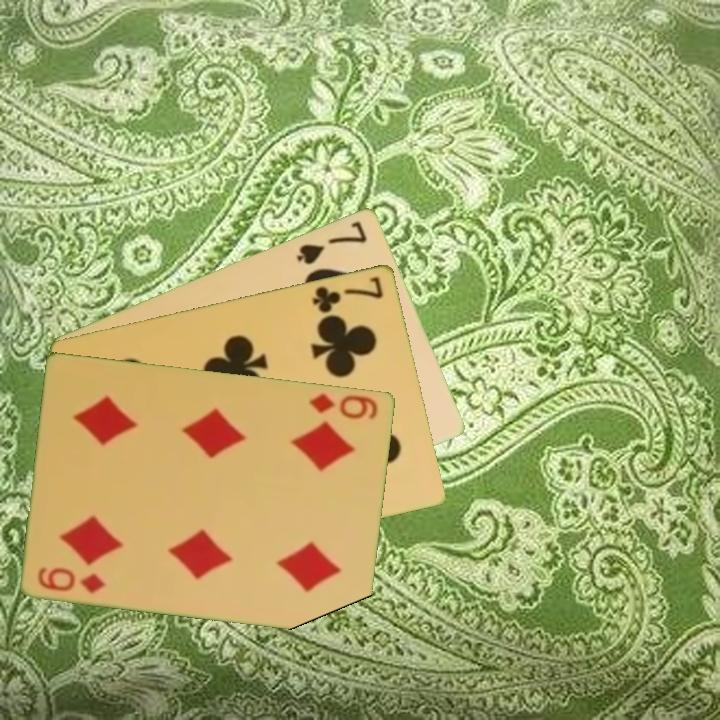6d: (306, 389, 381, 422), (34, 563, 109, 596)
7c: (309, 272, 387, 316)
7s: (292, 217, 370, 267)
